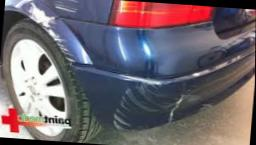Bumper: (71, 55, 239, 132)
Fender: (4, 0, 120, 68)
